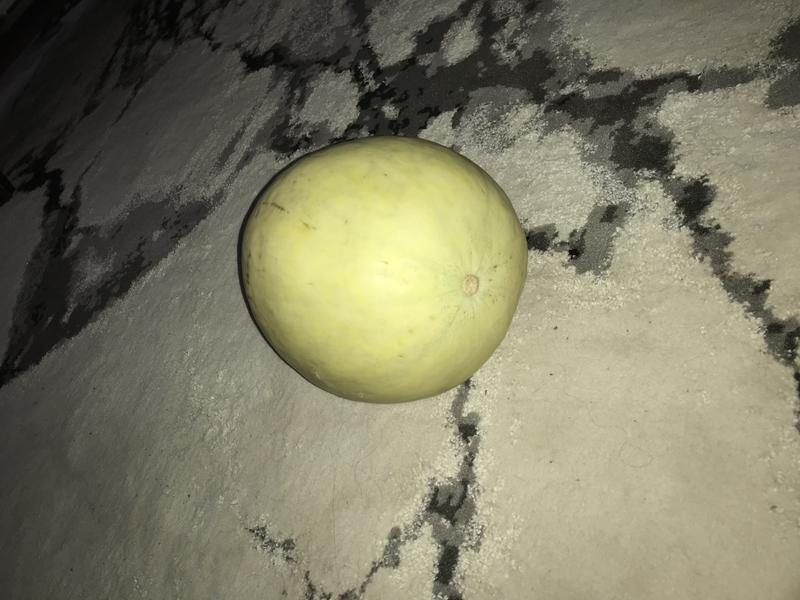honeydew: (224, 121, 532, 418)
